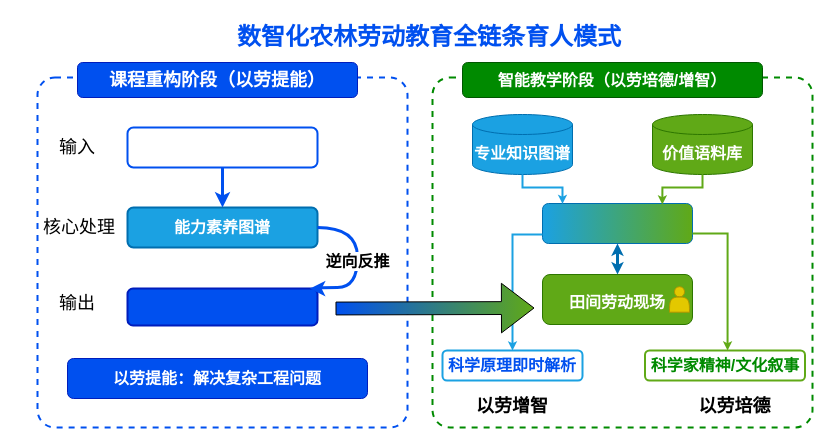
Some shapes in this 830 by 445 pixel diagram are drawn without their labels. The shapes that lost their labels are listed below. From the top down, each one's centre as x and y in pixels, then its label:
At point 222,147: "智慧农业产业需求 新质生产力岗位标准".
At point 617,223: "RAG智能伴学系统".
At point 222,306: "高阶劳动实训项目".
